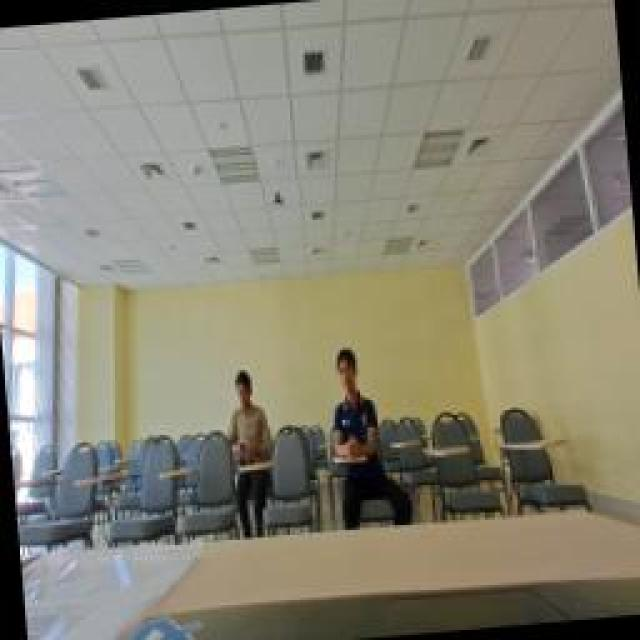study: (322, 337, 408, 525), (215, 362, 275, 532)
